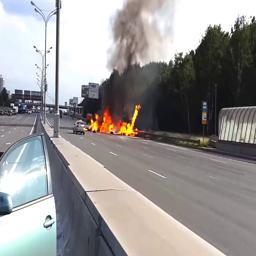fire: (87, 104, 140, 136)
